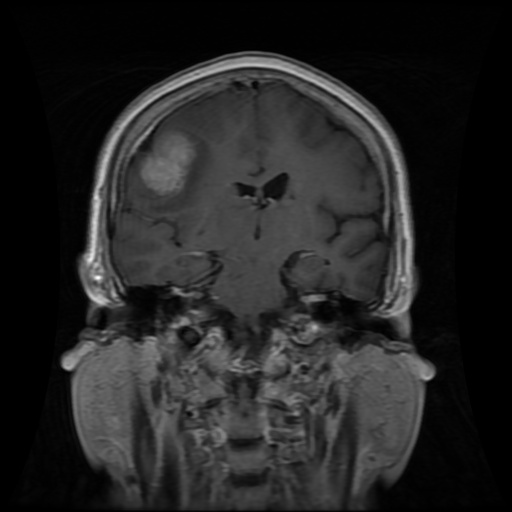meningioma: (140, 131, 197, 197)
